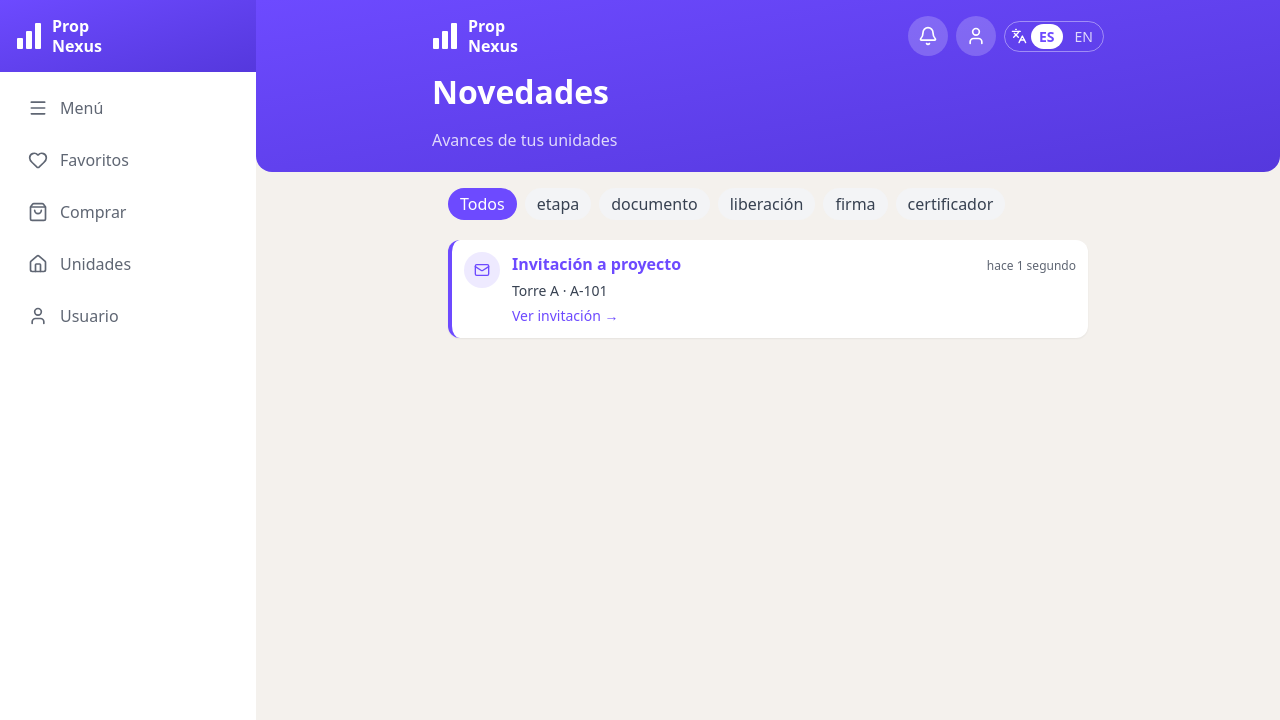
Test case: /investor/notifications › Escape cierra el modal de la invitación sin aceptar ni rechazar
Click the text "Ver invitación →" at (565, 316), box [512,306,618,325]
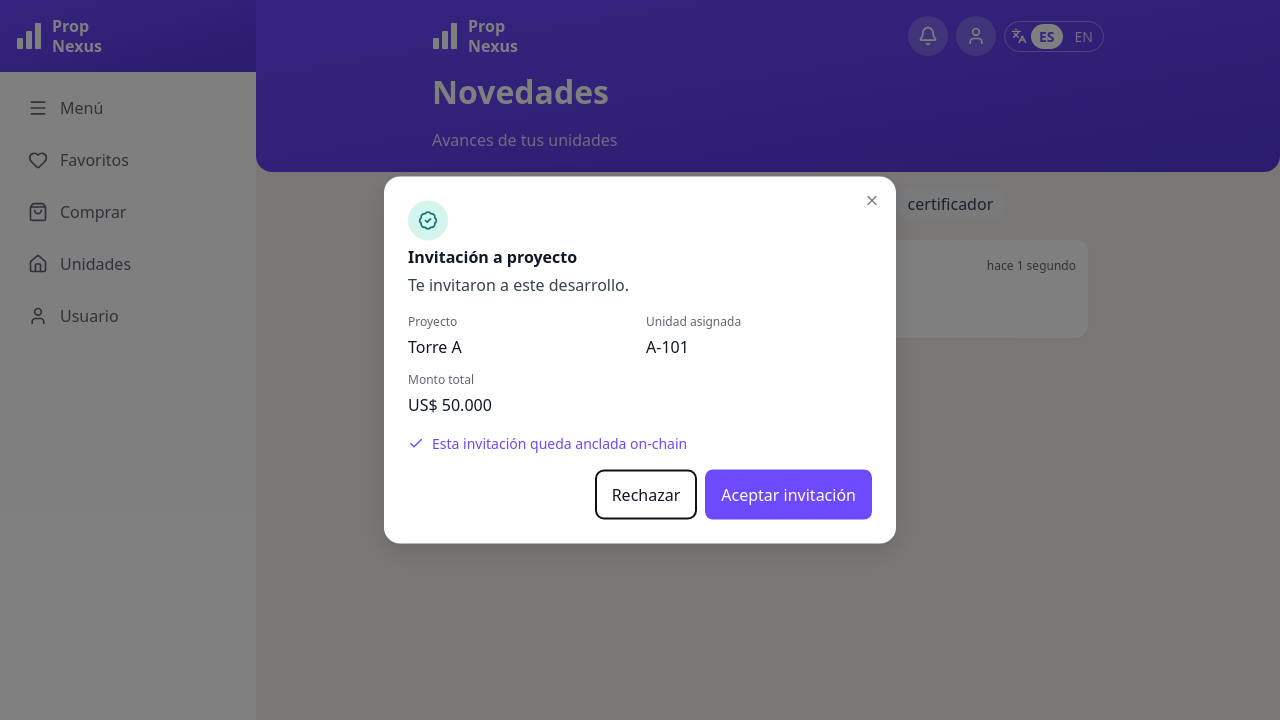
Now the dialog with test id "INV-INVITE-VIEW-001" is shown, box [384,176,896,544]
Press Escape
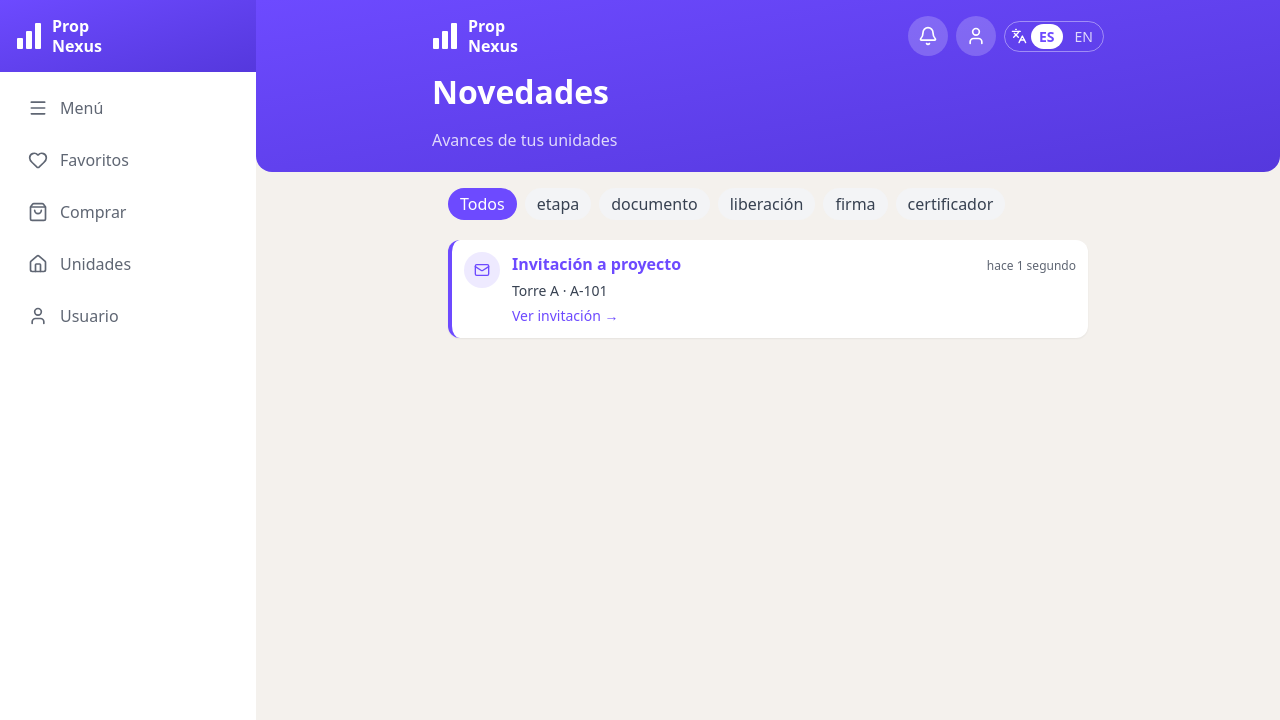
Now the dialog with test id "INV-INVITE-VIEW-001" is gone
